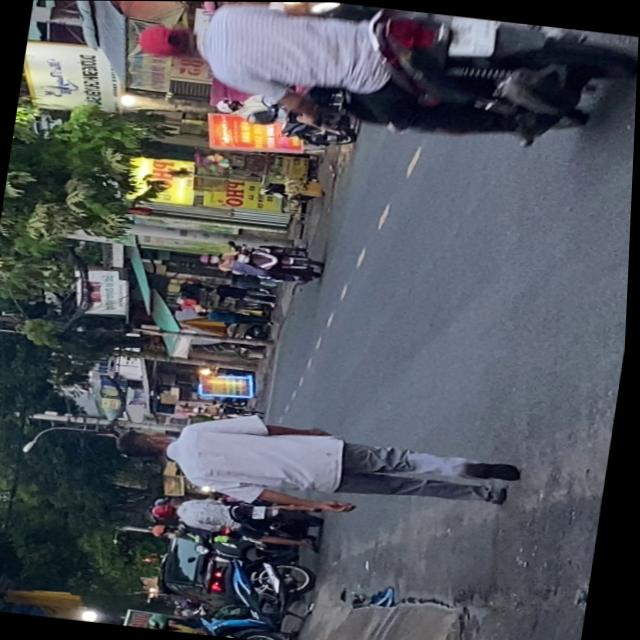helmet: (152, 501, 183, 520)
licenseplate: (120, 1, 640, 163), (148, 489, 329, 549)
motorcyclist: (133, 17, 206, 63)
nohelmet: (446, 15, 495, 56), (254, 505, 269, 518)
